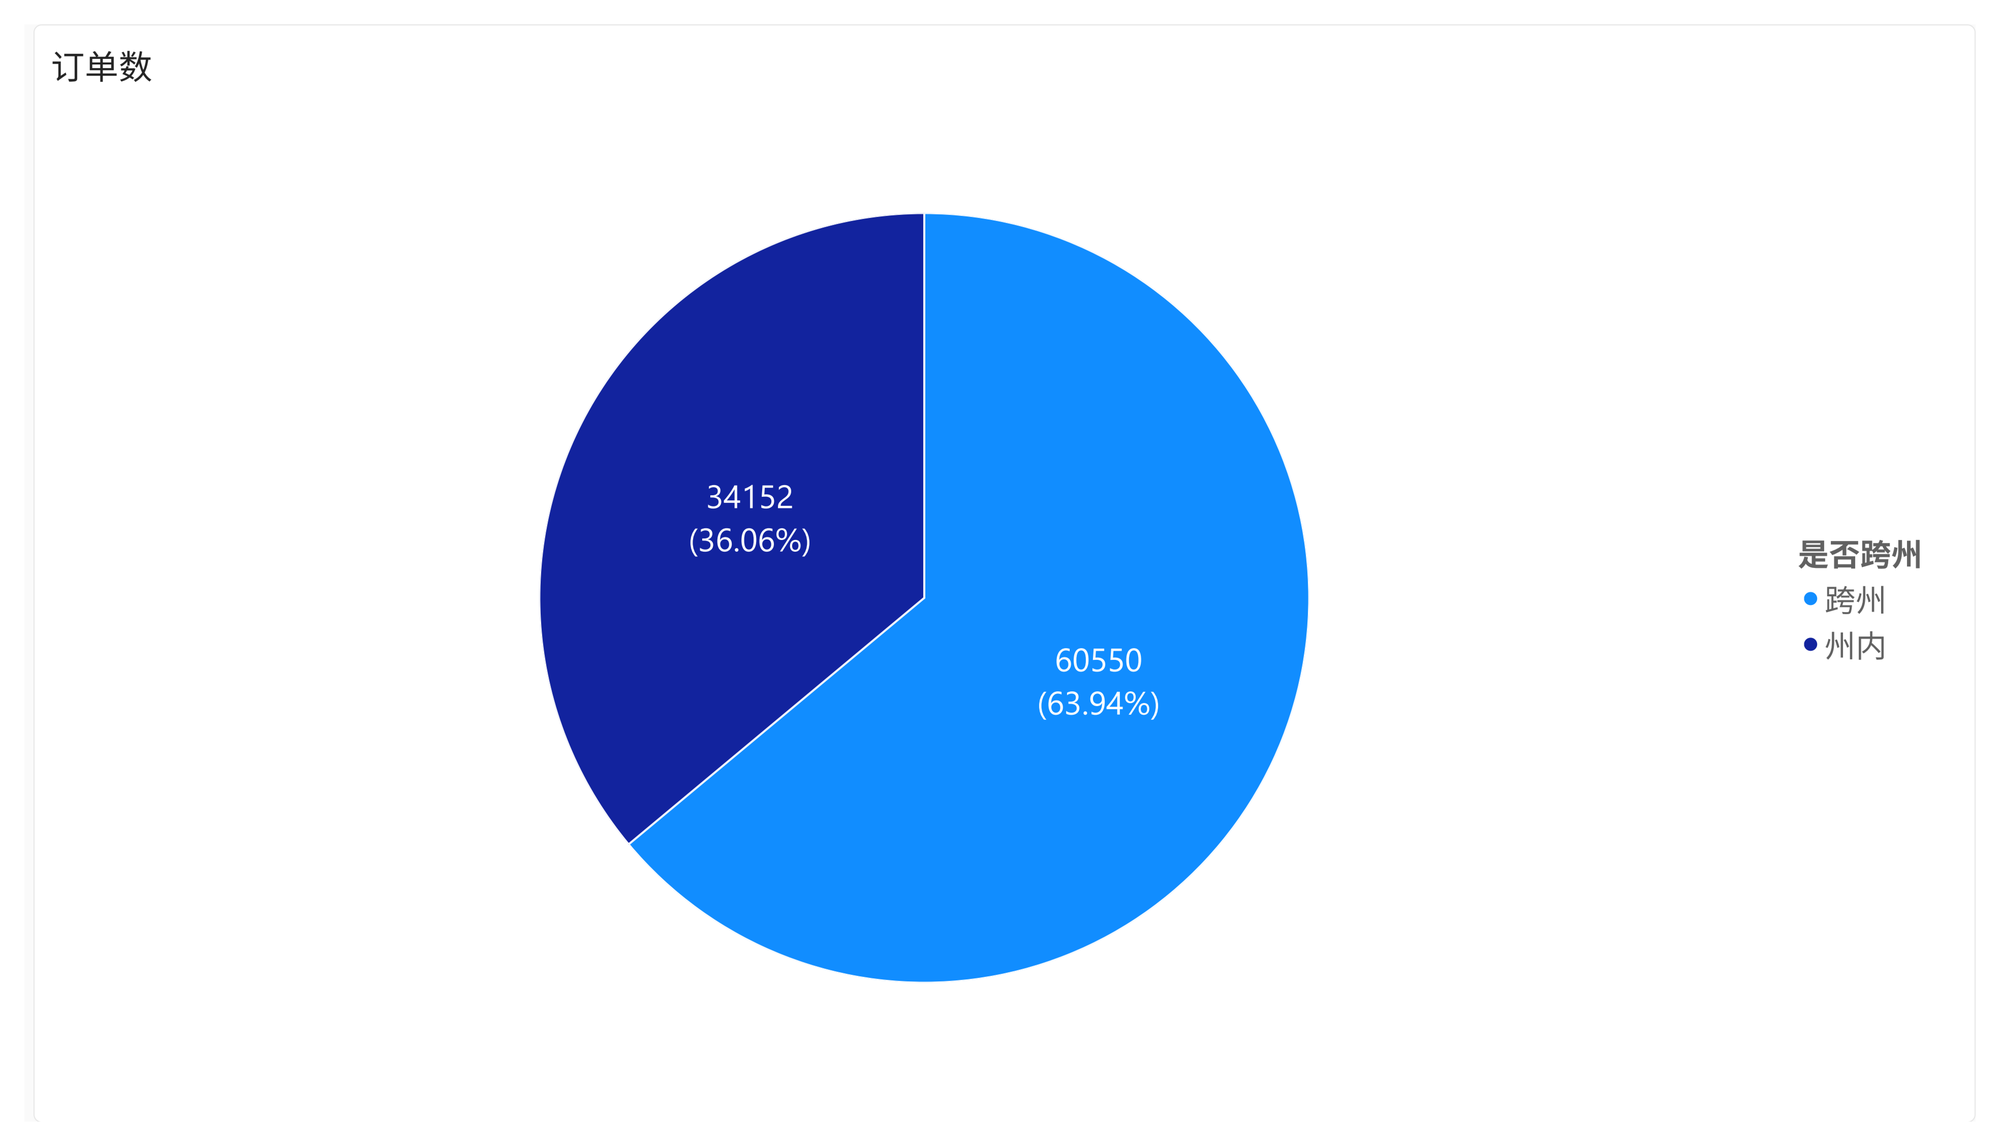

What the dashboard file says about the page in this screenshot:
{"tool":"powerbi","page":{"name":"第 2 页","canvas":[1920,1080],"ordinal":1},"visuals":[{"type":"pieChart","title":"订单数 ","fields":{"Category":["州内跨州.是否跨州"],"Y":["Sum(州内跨州.订单数)"]},"box":[9.1,0,1910.9,1080.6],"z":0}]}

Visuals, with their boxes in screenshot pixels (x1, y1, x2, y2), scaled from the page's 1920x1080 canvas onto the 2000x1146 screenshot:
"订单数 " pieChart: BBox(9, 0, 1999, 1145)
